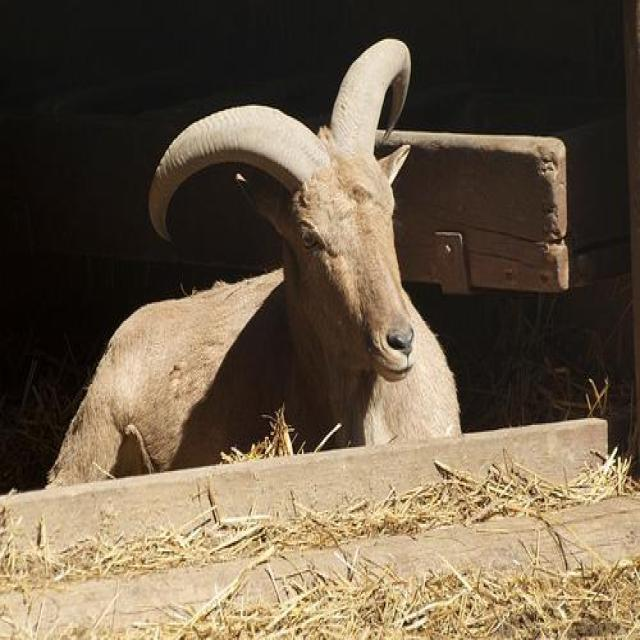Sheep: (43, 33, 466, 488)
